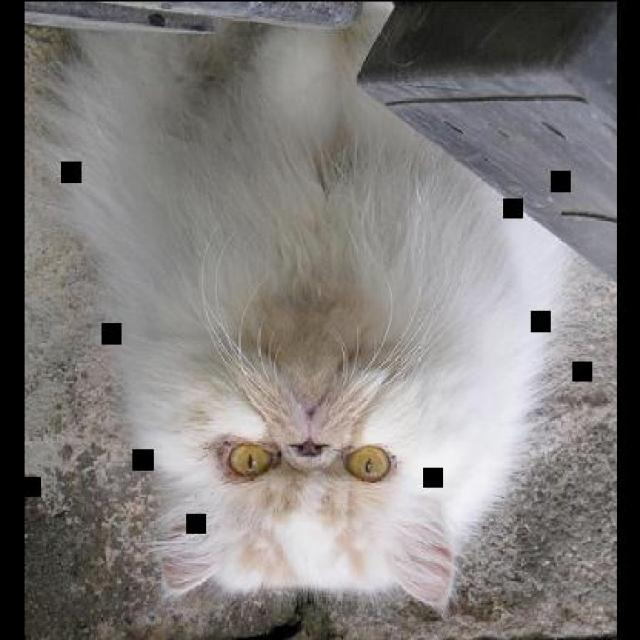unauthorized: (32, 8, 562, 617)
